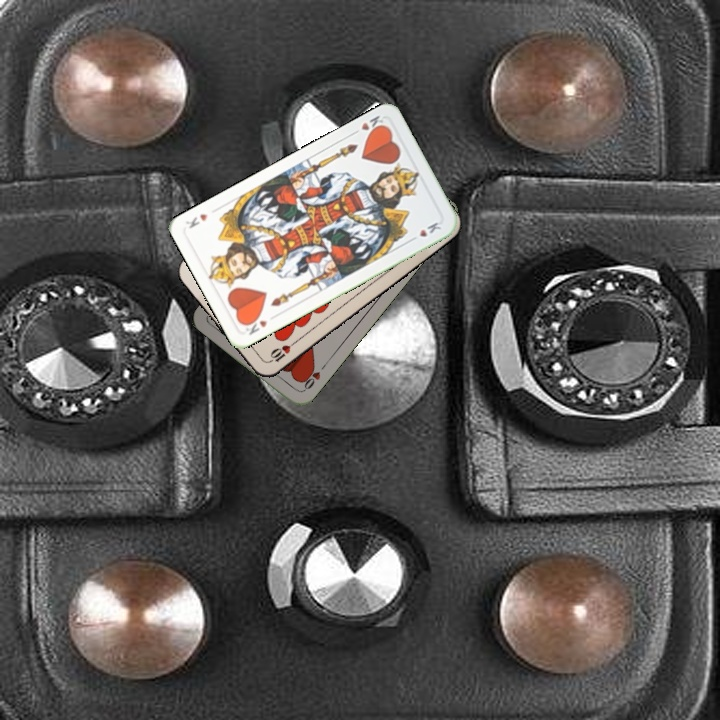H10: (264, 337, 299, 366)
HK: (348, 111, 387, 138), (238, 312, 270, 338)
HO: (297, 360, 329, 394)
